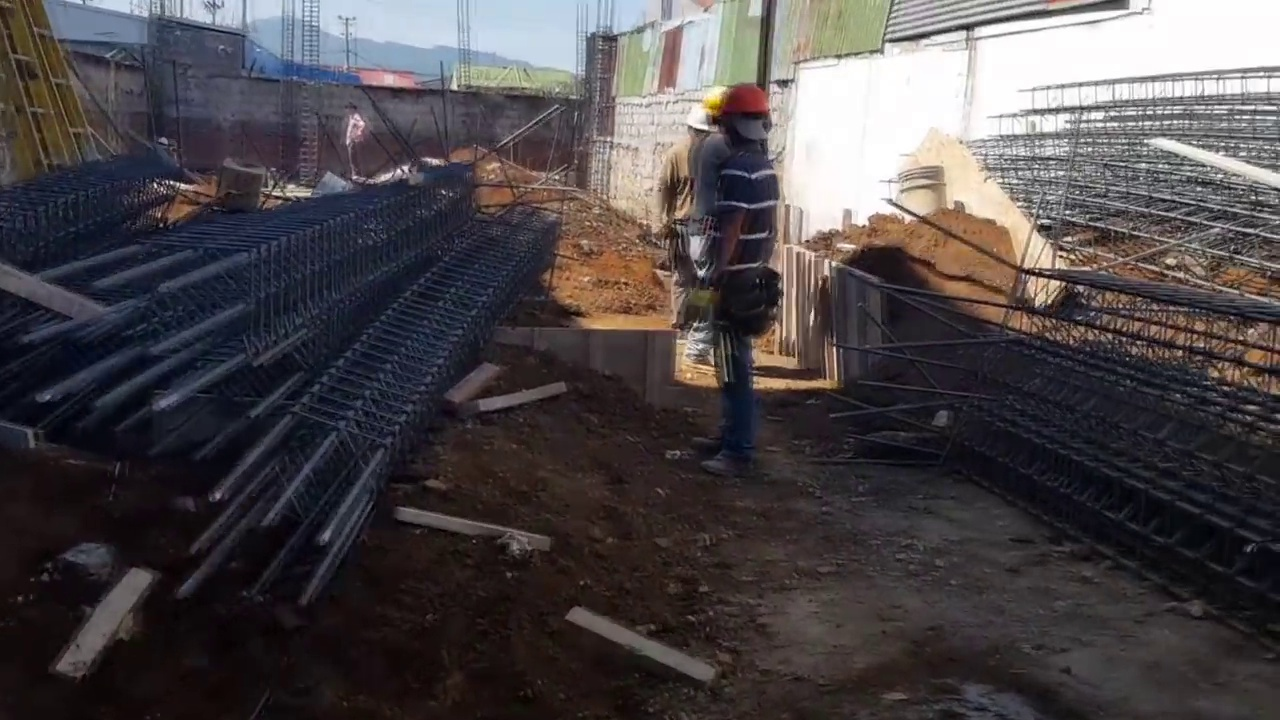helmet: (720, 81, 771, 122), (681, 104, 717, 134)
helmet-off: (345, 101, 356, 116)
helmet-on: (714, 80, 775, 148), (681, 105, 717, 145)
person: (683, 74, 780, 467), (648, 99, 716, 330), (343, 101, 365, 180)
